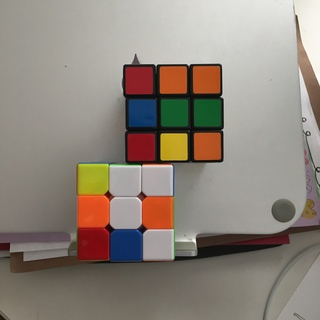face: (123, 64, 224, 163), (75, 162, 174, 262)
